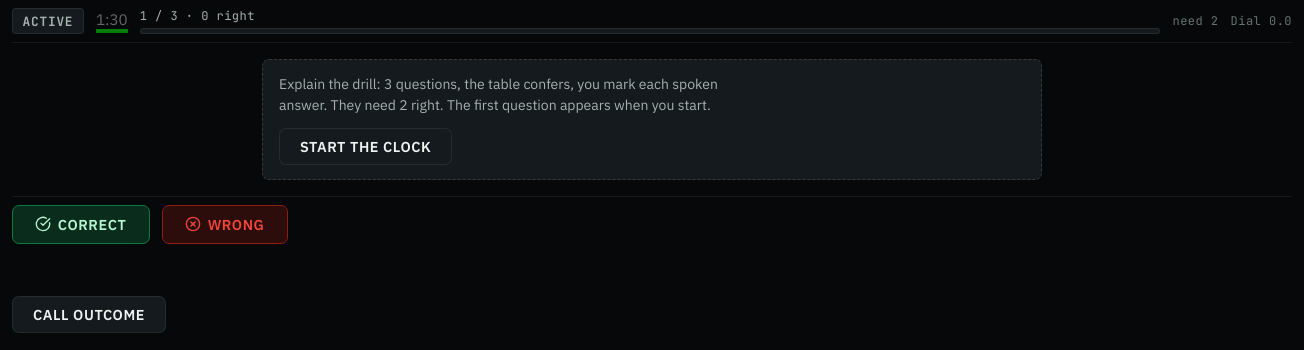
Test: InsideKnowledgeComponent — Q&A display › renders the current question
The image size is (1304, 350).
Click the button with test id "mg-start-clock". click: [366, 146]
box: [279,128,452,165]
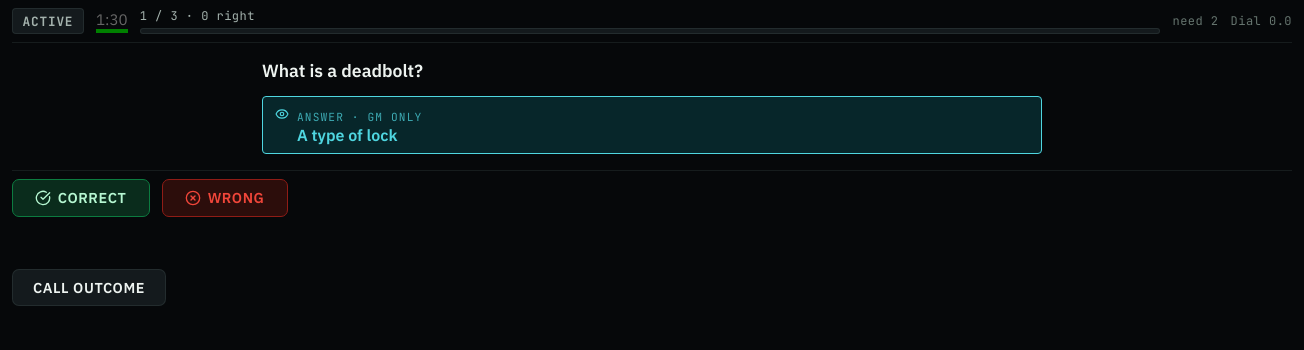
Now the text with test id "ik-question" reads "What is a deadbolt?", box [262,59,423,82]
